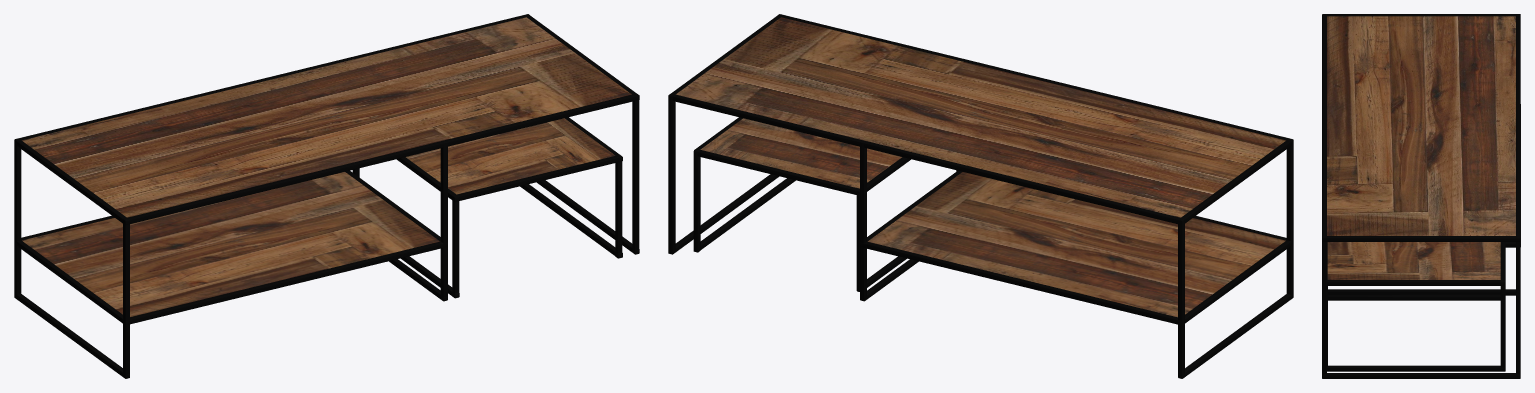
The model's file is example17.glb.
The picture shows the model from 3 angles, left to right: view 1: azimuth 30°, elevation 25°; view 2: azimuth 150°, elevation 25°; view 3: azimuth 270°, elevation 25°; orthographic projection. The views are drawn at different scales.
Visible parts, largest first — view 1: Cube_30, Null; view 2: Cube_30, Null; view 3: Cube_30, Null.
Part boxes in pixels (bbox=[...]): Cube_30: bbox=[22, 17, 631, 316]; Null: bbox=[14, 14, 639, 378]; Cube_30: bbox=[676, 17, 1285, 317]; Null: bbox=[668, 14, 1293, 378]; Cube_30: bbox=[1327, 16, 1515, 279]; Null: bbox=[1322, 14, 1520, 378].
Size of the model in its own units: 1.25 by 0.3681 by 0.4684.
2 materials, 1 textured.
